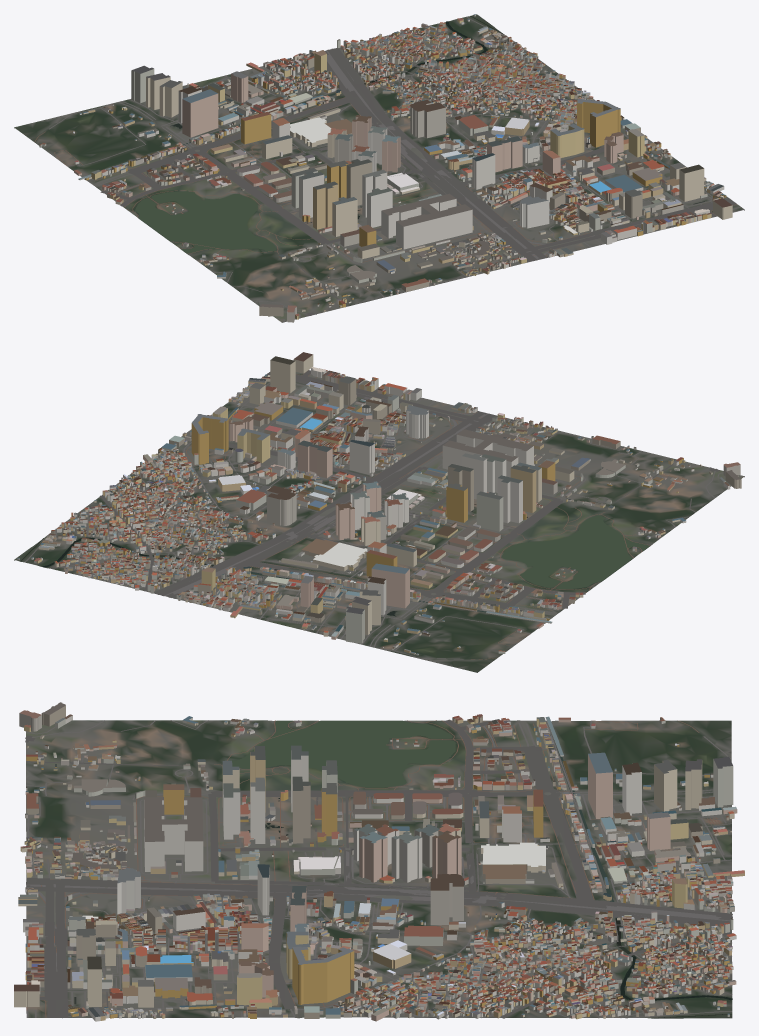
3 views of the same model, one above another, from view 1: azimuth 30°, elevation 25°; view 2: azimuth 150°, elevation 25°; view 3: azimuth 270°, elevation 25° (orthographic). The views are drawn at different scales.
Parts seen in each view (by area): view 1: buildings, ground, roads, water; view 2: buildings, ground, roads, water; view 3: buildings, ground, roads, water.
Part boxes in pixels (box(x1,y1,x2,y2)): buildings: box(39, 14, 732, 322); ground: box(14, 14, 744, 322); roads: box(34, 16, 744, 322); water: box(126, 16, 704, 253); buildings: box(17, 352, 741, 655); ground: box(14, 370, 744, 672); roads: box(24, 370, 742, 659); water: box(20, 408, 649, 616); buildings: box(14, 702, 744, 1021); ground: box(26, 720, 732, 1018); roads: box(25, 719, 732, 1018); water: box(74, 720, 732, 1018).
Bounding box in the file's own units: 1447 × 123 × 1452.
